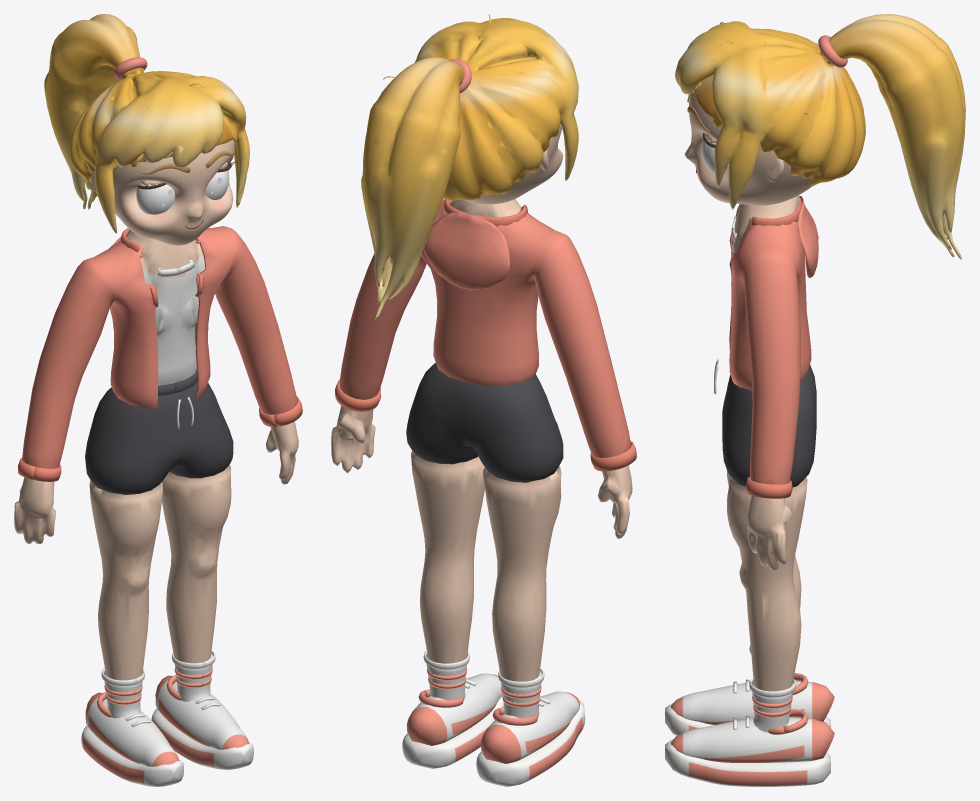
File: character_neutral.fbx
3 renders of one model, left to right at view 1: azimuth 30°, elevation 25°; view 2: azimuth 150°, elevation 25°; view 3: azimuth 270°, elevation 25°, orthographic. The views are drawn at different scales.
Parts seen in each view (by area): view 1: CH_Clothes, CH_Body, CH_Hair, CH_Shoes, CH_EyeCornea; view 2: CH_Clothes, CH_Hair, CH_Body, CH_Shoes; view 3: CH_Hair, CH_Clothes, CH_Body, CH_Shoes.
Boxes of the visible parts, x1,y1,x2,y2 form: CH_Clothes: (18,226,302,718); CH_Body: (14,139,298,680); CH_Hair: (44,14,249,233); CH_Shoes: (81,675,253,786); CH_EyeCornea: (150,171,227,213); CH_Clothes: (335,199,636,718); CH_Hair: (361,14,578,319); CH_Body: (331,124,632,681); CH_Shoes: (402,673,585,786); CH_Hair: (675,14,965,259); CH_Clothes: (714,195,818,732); CH_Body: (684,92,812,691); CH_Shoes: (665,673,834,786).
Bounding box in the file's own units: 67.42 × 159 × 58.71.
